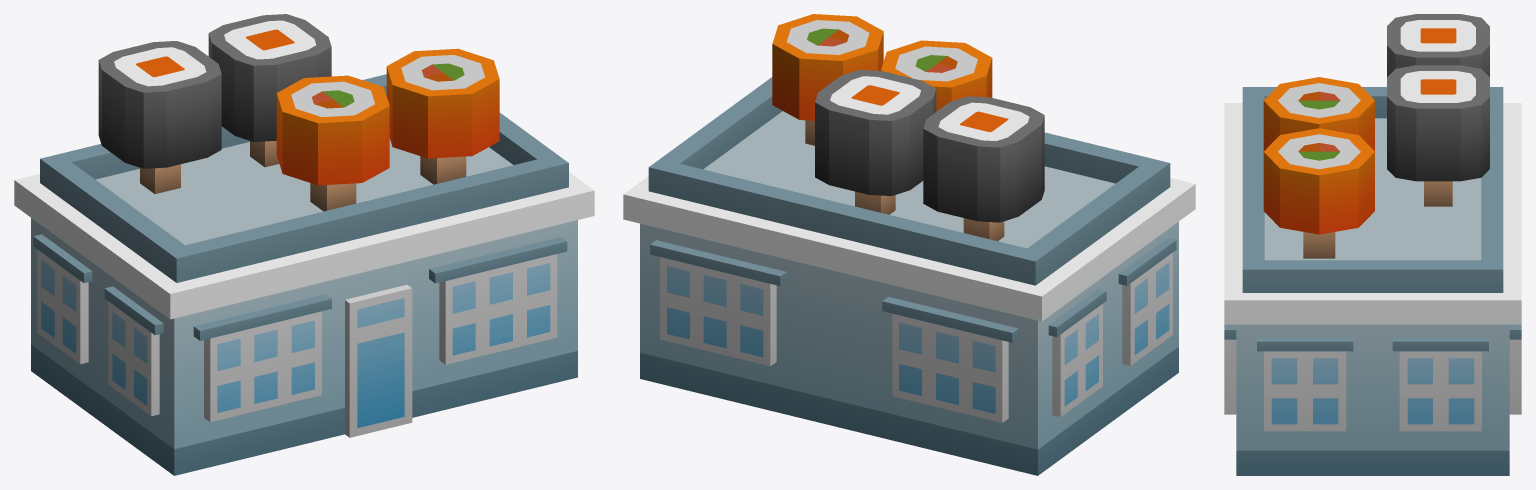
The model's file is sushi market.fbx.
The picture shows the model from 3 angles, left to right: view 1: azimuth 30°, elevation 25°; view 2: azimuth 150°, elevation 25°; view 3: azimuth 270°, elevation 25°; orthographic projection. The views are drawn at different scales.
Visible parts, largest first — view 1: sushi_market; view 2: sushi_market; view 3: sushi_market.
Boxes of the visible parts, left/top/right/bottom form: sushi_market: left=14, top=14, right=594, bottom=475; sushi_market: left=623, top=14, right=1195, bottom=475; sushi_market: left=1224, top=14, right=1521, bottom=475.
Bounding box in the file's own units: 688 × 479 × 437.
Materials: 1 (1 with a texture image).
